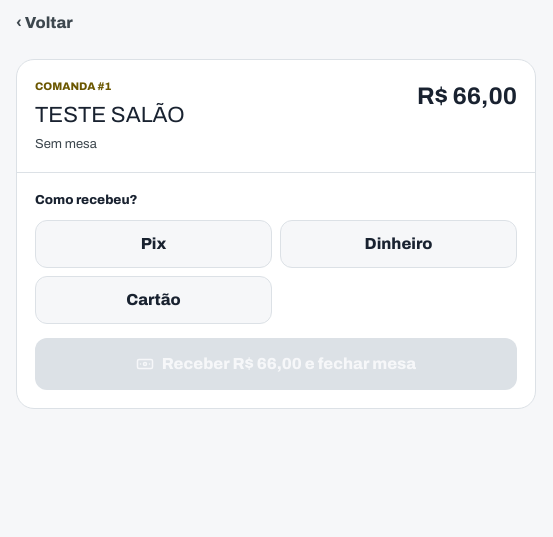
Test case: Salão — receber pagamento no terminal › mostra somente as formas oficiais, confirma no mesmo celular e fecha a mesa
Expected: the heading "TESTE SALÃO" is shown, [35,98,184,132]
Expected: the radio button labelled "Pix" is shown, [35,220,272,268]
Click the radio button labelled "Cartão" at (154, 300), box [35,276,272,324]
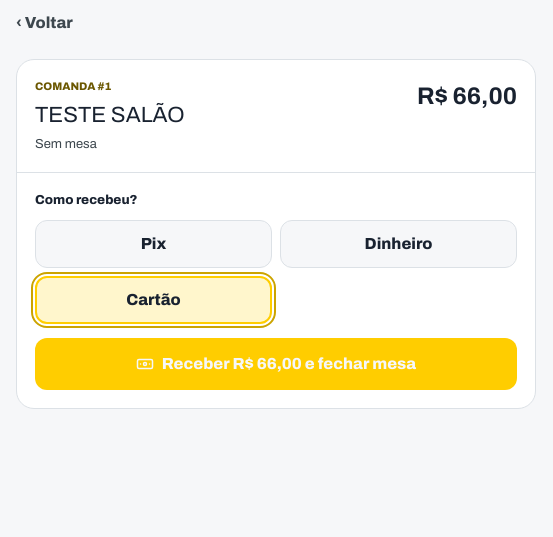
Click the button "Receber R$ 66,00 e fechar mesa" at (276, 364), box [35,338,517,390]
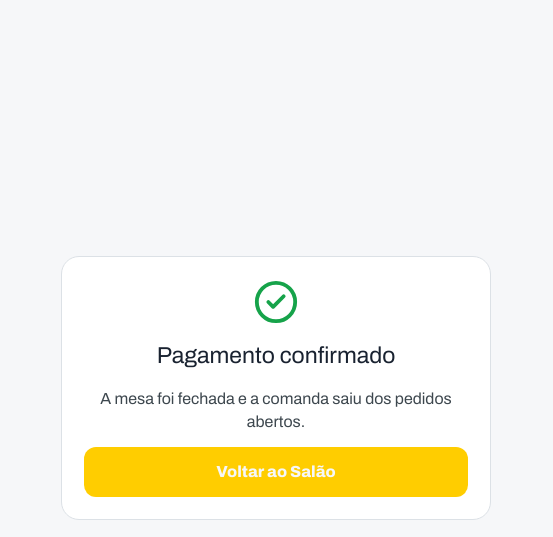
Result: the heading "Pagamento confirmado" is shown at [157,343,395,368]
